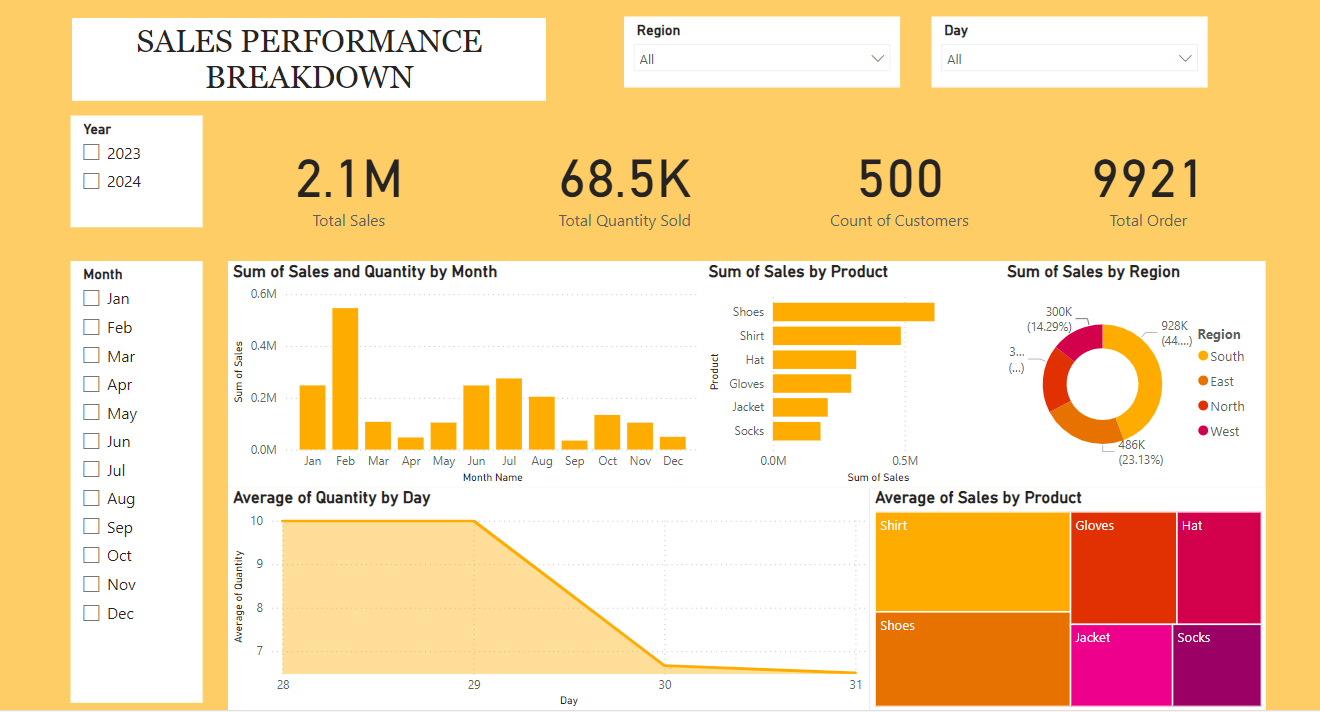

What the dashboard file says about the page in this screenshot:
{"tool":"powerbi","page":{"name":"Page 1","canvas":[1280,720],"ordinal":0},"visuals":[{"type":"slicer","fields":{"Values":["SalesData.Year"]},"box":[41.6,117.2,134.2,113.4],"z":0},{"type":"slicer","fields":{"Values":["SalesData.Region"]},"box":[602.8,17,279.7,71.8],"z":1000},{"type":"slicer","fields":{"Values":["SalesData.Day Name"]},"box":[914.6,17,279.7,71.8],"z":2000},{"type":"slicer","fields":{"Values":["SalesData.Month Name"]},"box":[41.6,264.6,134.2,447.9],"z":3000},{"type":"card","fields":{"Values":["SalesData.Sum Total"]},"box":[204.1,117.2,238.1,134.2],"z":4000},{"type":"card","fields":{"Values":["Sum(SalesData.Quantity)"]},"box":[483.8,117.2,238.1,134.2],"z":5000},{"type":"card","fields":{"Values":["Count(SalesData.Customer Id)"]},"box":[761.6,117.2,238.1,134.2],"z":6000},{"type":"card","fields":{"Values":["CountNonNull(SalesData.OrderID)"]},"box":[1014.8,117.2,238.1,134.2],"z":7000},{"type":"columnChart","title":"Sum of Sales and Quantity by Month","fields":{"Category":["SalesData.Month Name"],"Y":["Sum(SalesData.Sales)"]},"box":[200.8,263.9,482.5,229.9],"z":8000},{"type":"clusteredBarChart","fields":{"Category":["SalesData.Product"],"Y":["Sum(SalesData.Sales)"]},"box":[683.3,263.9,302.8,229.9],"z":9000},{"type":"donutChart","fields":{"Category":["SalesData.Region"],"Y":["Sum(SalesData.Sales)"]},"box":[986.1,263.9,267.2,229.9],"z":10000},{"type":"areaChart","fields":{"Category":["SalesData.Day"],"Y":["Avg(SalesData.Quantity)"]},"box":[200.8,493.9,650.9,226.7],"z":11000},{"type":"treemap","fields":{"Group":["SalesData.Product"],"Values":["Avg(SalesData.Sales)"]},"box":[851.7,493.9,401.6,226.7],"z":12000},{"type":"textbox","box":[42.1,17.8,480.9,84.2],"z":13000}]}

Visuals, with their boxes on the page's 1280x720 design canvas (x1, y1, x2, y2). These are canvas units, not pixel positions in the 1320x712 screenshot, which may show the page scaled, cropped or inside an application window:
slicer - SalesData.Year: Rect(42, 117, 176, 231)
slicer - SalesData.Region: Rect(603, 17, 882, 89)
slicer - SalesData.Day Name: Rect(915, 17, 1194, 89)
slicer - SalesData.Month Name: Rect(42, 265, 176, 712)
card - SalesData.Sum Total: Rect(204, 117, 442, 251)
card - Sum(SalesData.Quantity): Rect(484, 117, 722, 251)
card - Count(SalesData.Customer Id): Rect(762, 117, 1000, 251)
card - CountNonNull(SalesData.OrderID): Rect(1015, 117, 1253, 251)
"Sum of Sales and Quantity by Month" columnChart: Rect(201, 264, 683, 494)
clusteredBarChart - SalesData.Product x Sum(SalesData.Sales): Rect(683, 264, 986, 494)
donutChart - SalesData.Region x Sum(SalesData.Sales): Rect(986, 264, 1253, 494)
areaChart - SalesData.Day x Avg(SalesData.Quantity): Rect(201, 494, 852, 721)
treemap - SalesData.Product x Avg(SalesData.Sales): Rect(852, 494, 1253, 721)
textbox: Rect(42, 18, 523, 102)
